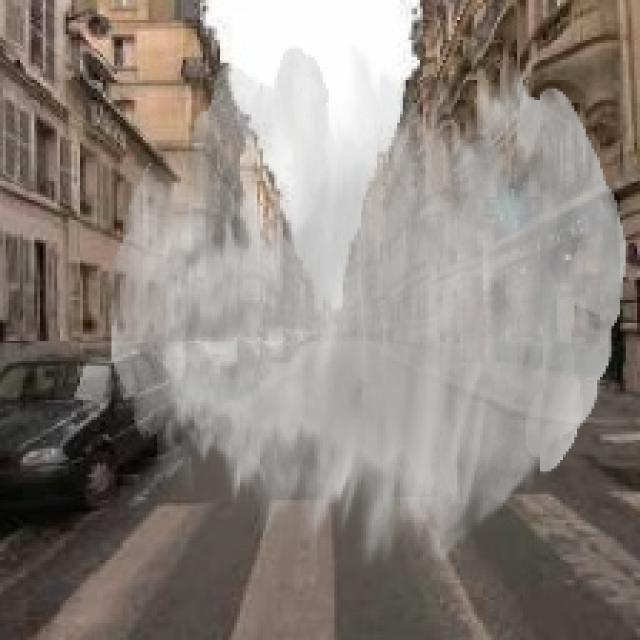Smoke: (109, 46, 626, 568)
